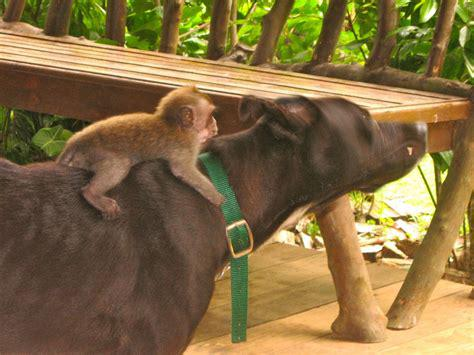dog: (1, 95, 425, 355)
monkey: (59, 87, 224, 218)
